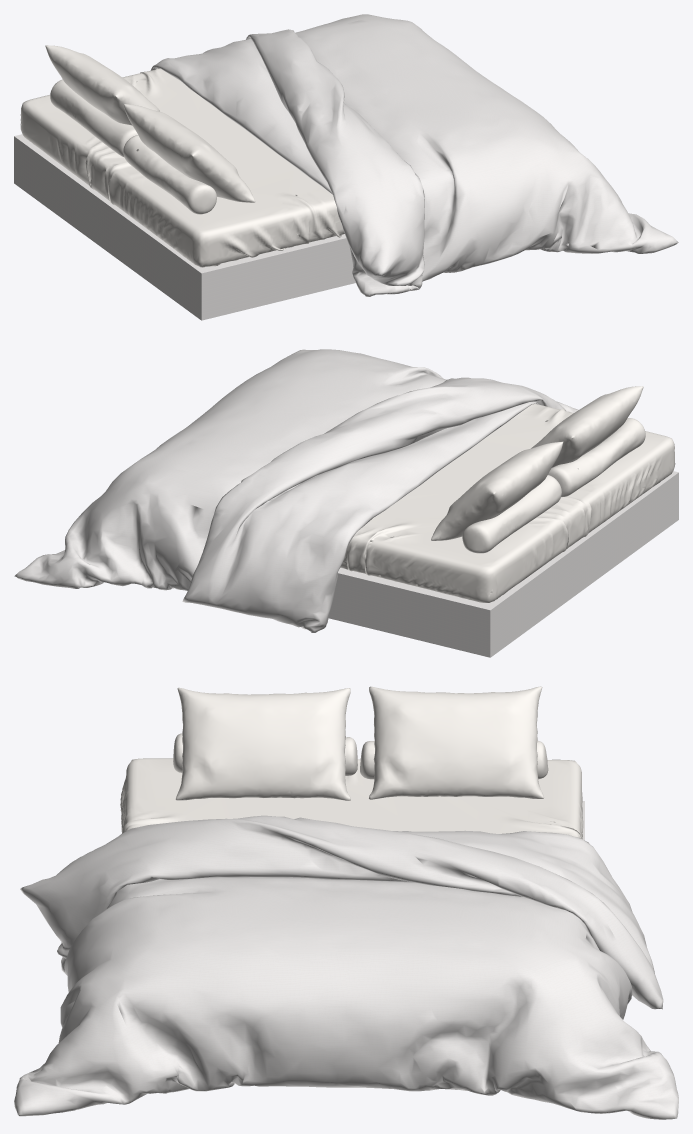
The model's file is bed.glb.
The picture shows the model from 3 angles, top to bottom: view 1: azimuth 30°, elevation 25°; view 2: azimuth 150°, elevation 25°; view 3: azimuth 270°, elevation 25°; orthographic projection. The views are drawn at different scales.
Parts seen in each view (by area): view 1: Geom3D (×4), Geom3D_Component#40, Geom3D_Component#48, Geom3D_Component#47; view 2: Geom3D (×4), Geom3D_Component#40, Geom3D_Component#47, Geom3D_Component#48; view 3: Geom3D (×3), Geom3D_Component#40, Geom3D_Component#47, Geom3D_Component#48.
Boxes of the visible parts, x1=… form: Geom3D (×4): x1=14, y1=14, x2=678, y2=320; Geom3D_Component#40: x1=20, y1=68, x2=344, y2=267; Geom3D_Component#48: x1=123, y1=135, x2=216, y2=214; Geom3D_Component#47: x1=50, y1=79, x2=137, y2=157; Geom3D (×4): x1=14, y1=349, x2=678, y2=657; Geom3D_Component#40: x1=340, y1=403, x2=675, y2=602; Geom3D_Component#47: x1=462, y1=475, x2=561, y2=553; Geom3D_Component#48: x1=548, y1=418, x2=645, y2=497; Geom3D (×3): x1=14, y1=686, x2=678, y2=1119; Geom3D_Component#40: x1=120, y1=758, x2=583, y2=838; Geom3D_Component#47: x1=360, y1=740, x2=548, y2=779; Geom3D_Component#48: x1=173, y1=733, x2=357, y2=775.
Bounding box in the file's own units: 3 × 0.9658 × 3.2.
Materials: 2 (1 with a texture image).
